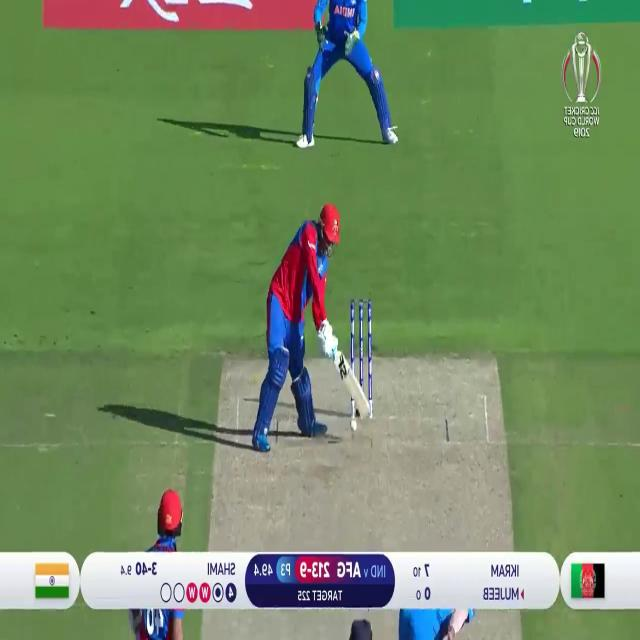ball: (351, 417, 357, 433)
